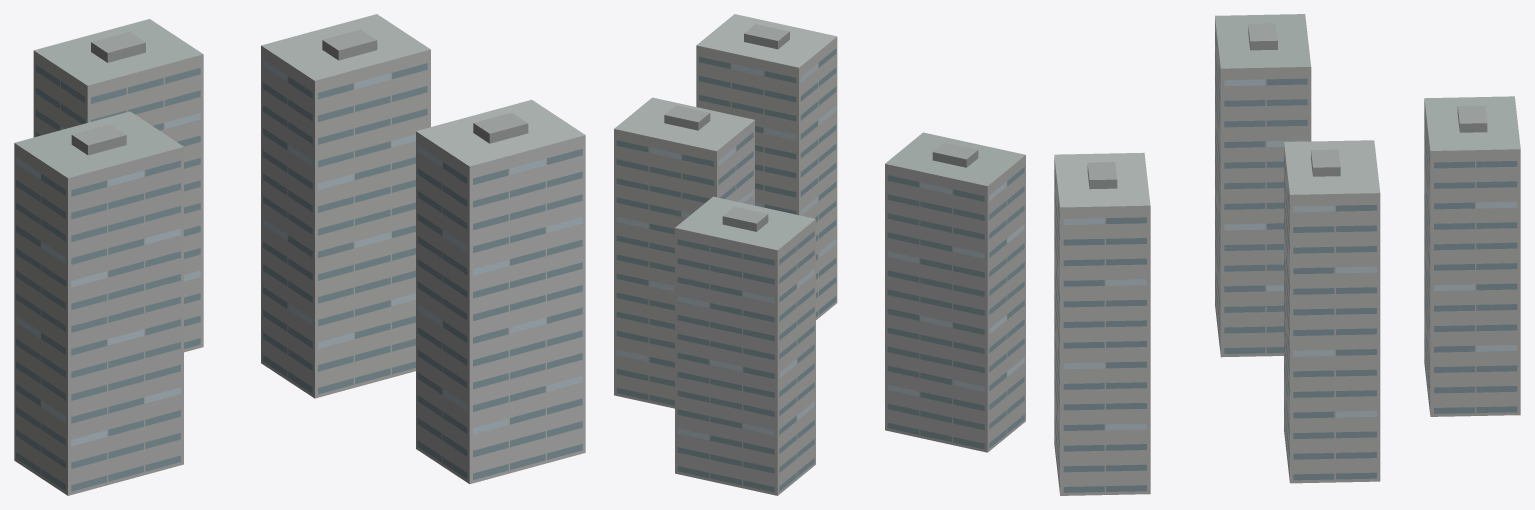
The model's file is apt-a15677501.glb.
The picture shows the model from 3 angles, left to right: view 1: azimuth 30°, elevation 25°; view 2: azimuth 150°, elevation 25°; view 3: azimuth 270°, elevation 25°; orthographic projection. The views are drawn at different scales.
Visible parts, largest first — view 1: apt-a15677501; view 2: apt-a15677501; view 3: apt-a15677501.
Part boxes in pixels (box(x1,y1,x2,y2)): apt-a15677501: box(14, 14, 585, 495); apt-a15677501: box(614, 14, 1025, 495); apt-a15677501: box(1054, 14, 1520, 495).
Bounding box in the file's own units: 110 × 79 × 112.
